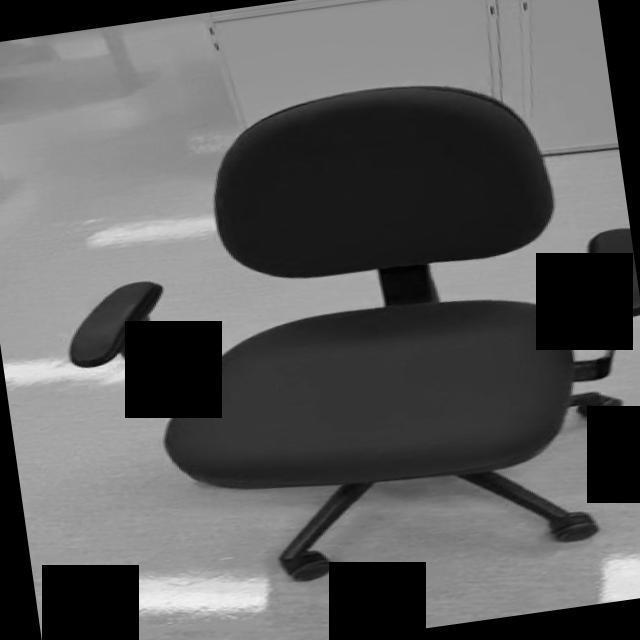chair: (38, 55, 640, 608)
